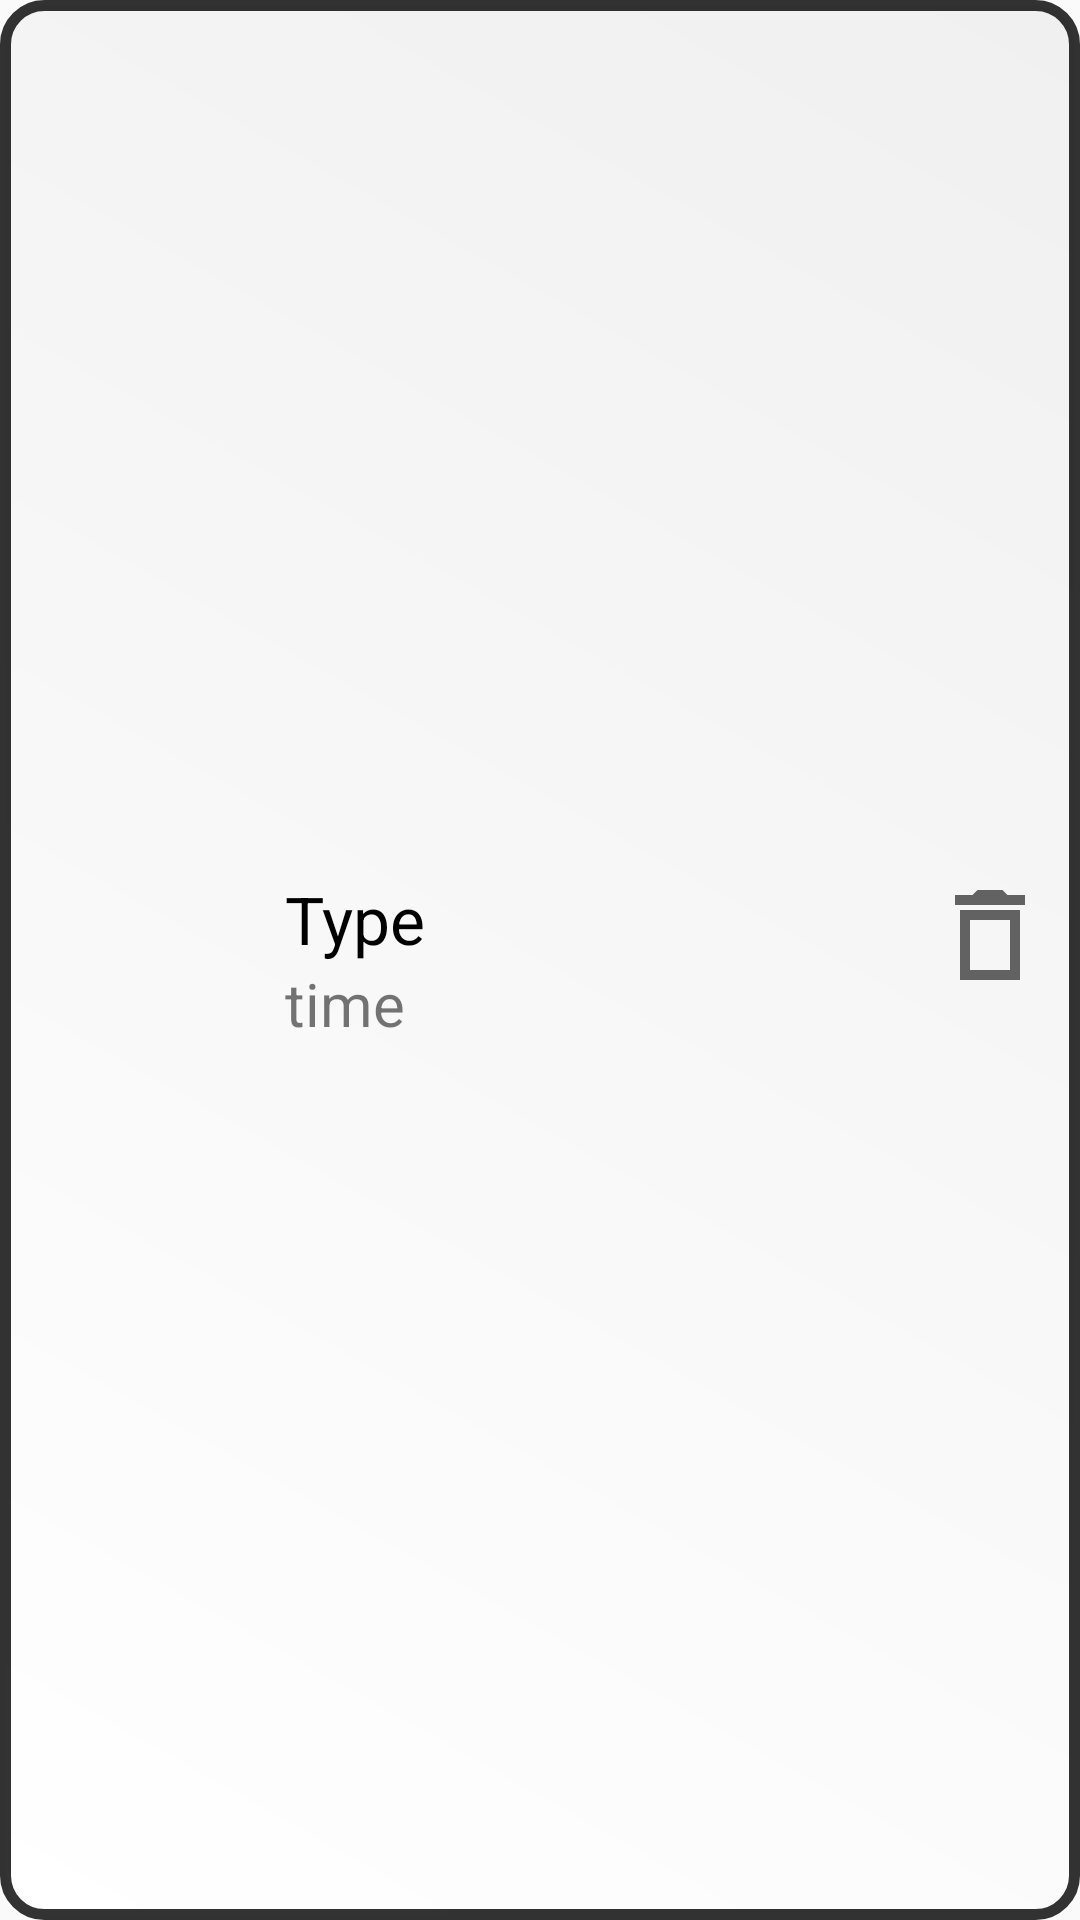

Point at icon controls on the screen. Image size 1080w x 1920h, points as (x=x, y=y).
delete: (x=990, y=935)
